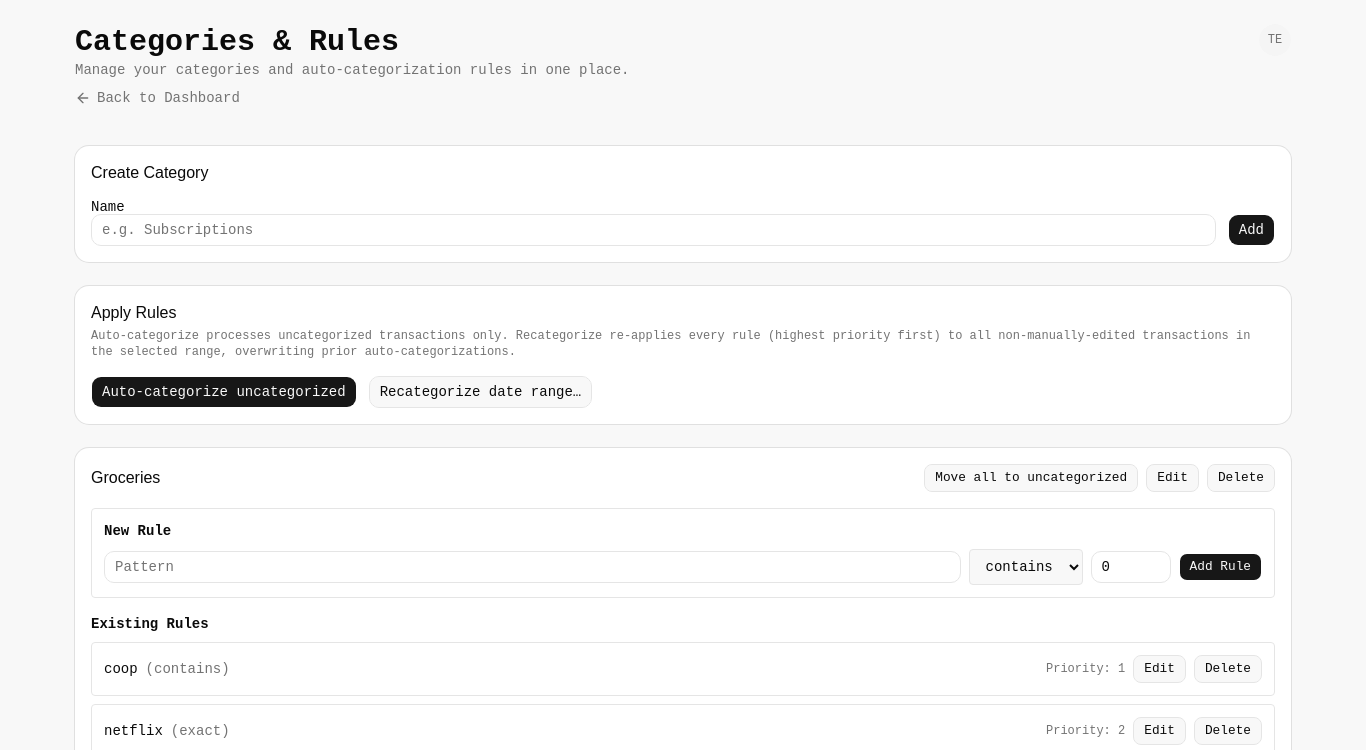
Scenario: CategoriesPage › shows validation error when adding rule with empty pattern
This screenshot has width=1366, height=750.
Expected: the heading "Groceries" is shown, [91,466,160,490]
What coordinates should you click on to do the following:
click the button "Add Rule"
I would click on:
 (1220, 567)
Its box is [1179,553,1262,581].
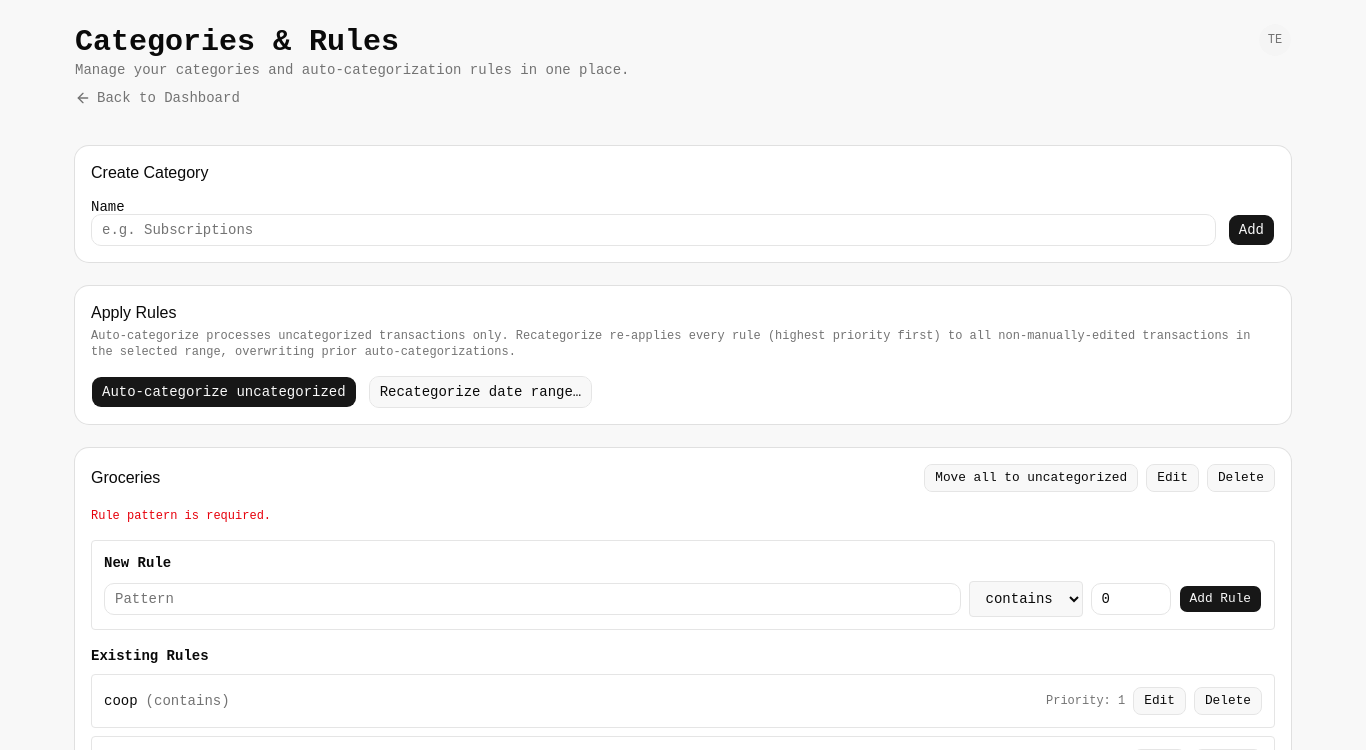
Expected: the text "Groceries" is shown, [91,469,160,486]
Expected: the text "Rule pattern is required." is shown, [91,509,271,523]
